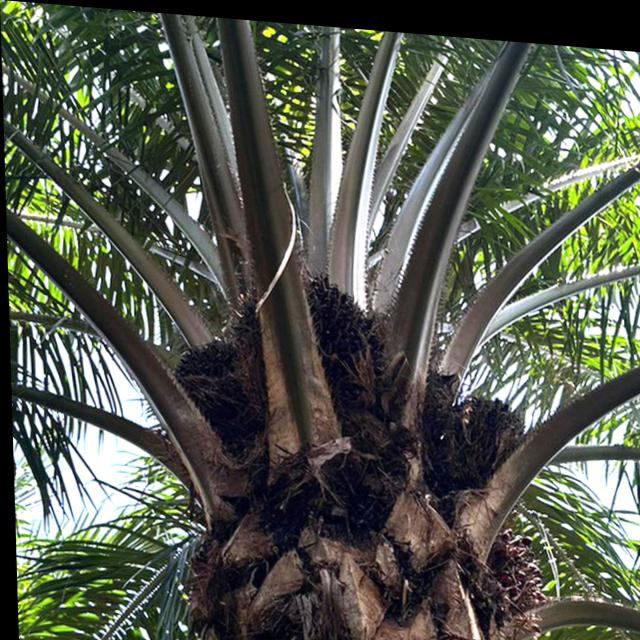ripe: (210, 251, 408, 409)
